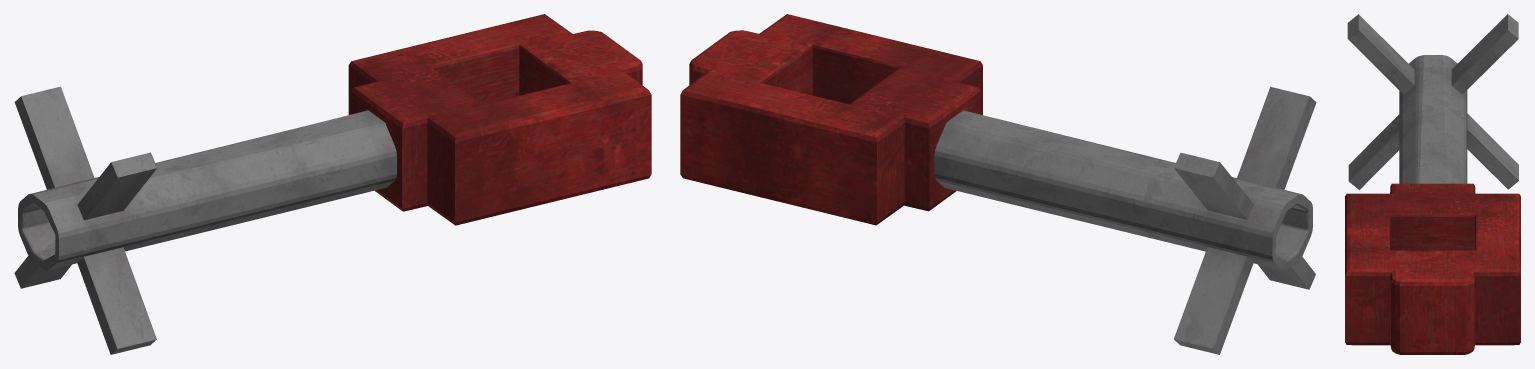
The model's file is Chave_3.fbx.
The picture shows the model from 3 angles, left to right: view 1: azimuth 30°, elevation 25°; view 2: azimuth 150°, elevation 25°; view 3: azimuth 270°, elevation 25°; orthographic projection. The views are drawn at different scales.
Visible parts, largest first — view 1: Chave_3; view 2: Chave_3; view 3: Chave_3.
Boxes of the visible parts, x1,y1,x2,y2 form: Chave_3: (14, 14, 651, 354); Chave_3: (680, 14, 1316, 354); Chave_3: (1345, 14, 1520, 354).
Size of the model in its own units: 7.14 by 2.26 by 2.25.
